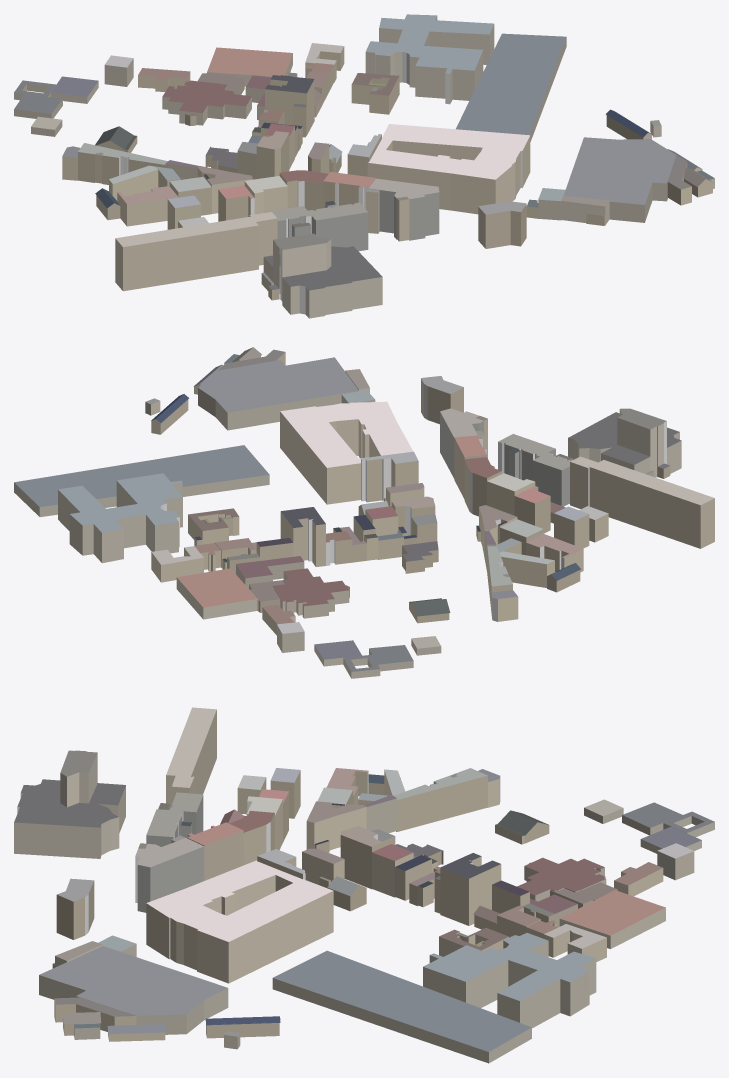
The picture shows the model from 3 angles, top to bottom: view 1: azimuth 30°, elevation 25°; view 2: azimuth 150°, elevation 25°; view 3: azimuth 270°, elevation 25°; orthographic projection. The views are drawn at different scales.
Visible parts, largest first — view 1: tuile; view 2: tuile; view 3: tuile.
Part boxes in pixels (x1,y1,x2,y2): tuile: [14, 14, 714, 318]; tuile: [14, 347, 714, 678]; tuile: [14, 707, 714, 1063].
Bounding box in the file's own units: 288 × 27.03 × 272.
